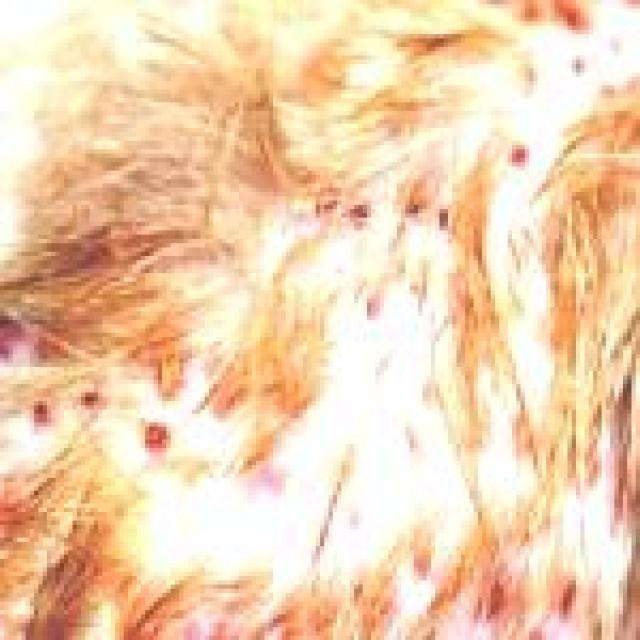fungal infection: (344, 341, 441, 452), (25, 387, 181, 451), (294, 174, 462, 232), (514, 21, 640, 96), (479, 557, 590, 640), (344, 262, 432, 322), (238, 454, 296, 504), (394, 528, 442, 583), (183, 610, 267, 640), (320, 499, 368, 540), (504, 138, 530, 173)
